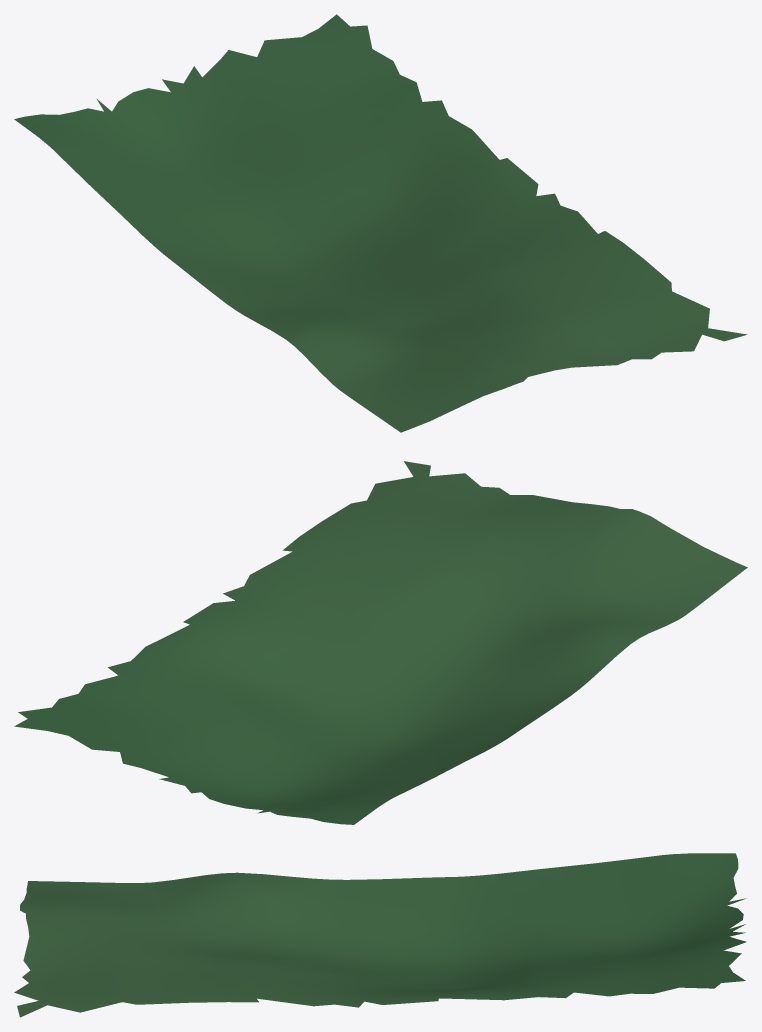
The model's file is payo_land_x4_y8.glb.
3 views of the same model, one above another, from view 1: azimuth 30°, elevation 25°; view 2: azimuth 150°, elevation 25°; view 3: azimuth 270°, elevation 25° (orthographic). The views are drawn at different scales.
Visible parts, largest first — view 1: payo_land_x4_y8; view 2: payo_land_x4_y8; view 3: payo_land_x4_y8.
Part boxes in pixels (box(x1,y1,x2,y2)): payo_land_x4_y8: box(14, 14, 747, 432); payo_land_x4_y8: box(14, 461, 747, 824); payo_land_x4_y8: box(14, 853, 746, 1017).
Size of the model in its own units: 130 by 29.26 by 264.
